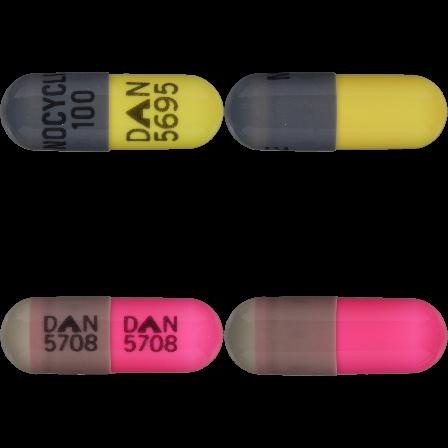0591-5695: (0, 0, 224, 224)
